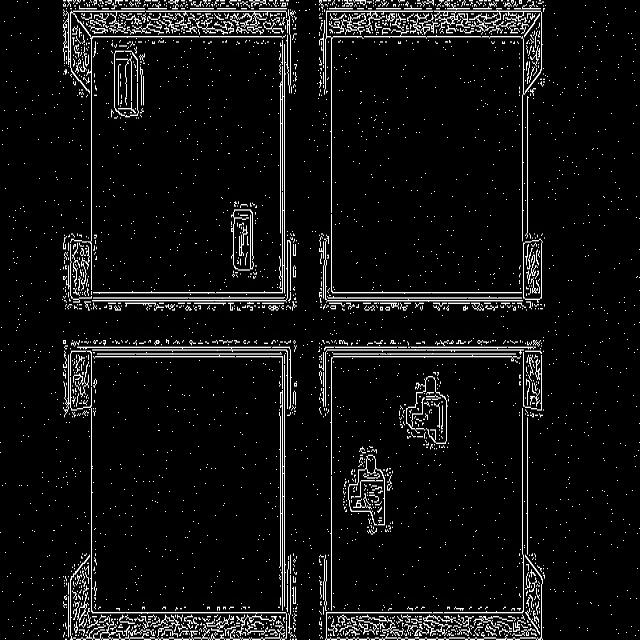Battery: (111, 50, 139, 117), (232, 204, 256, 278)
Sensor: (344, 447, 392, 535), (400, 372, 449, 448)
